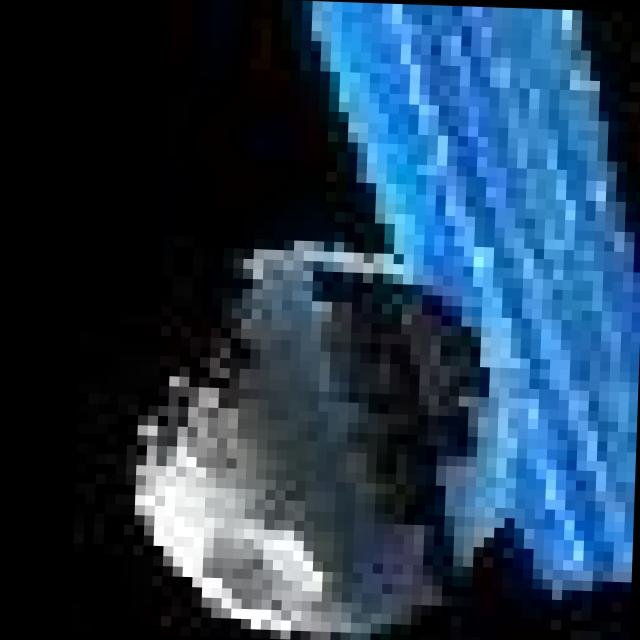Death Star: (96, 238, 530, 640)
